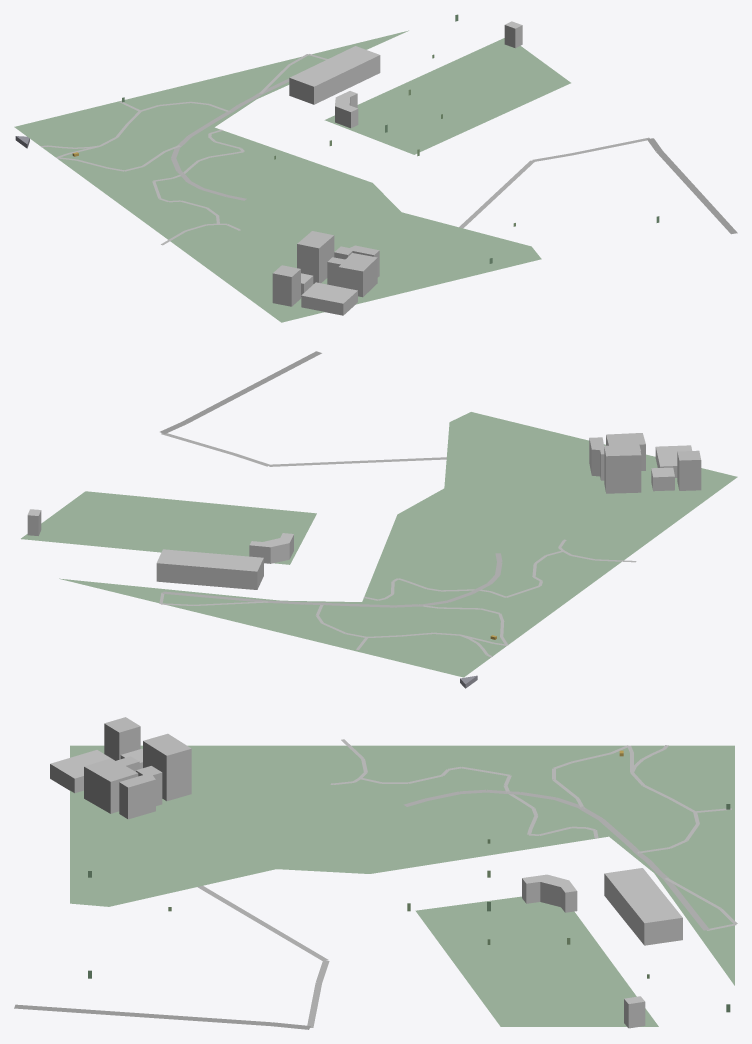
3 renders of one model, top to bottom at view 1: azimuth 30°, elevation 25°; view 2: azimuth 150°, elevation 25°; view 3: azimuth 270°, elevation 25°, orthographic. The views are drawn at different scales.
Size of the model in its own units: 517 by 50.26 by 545.
